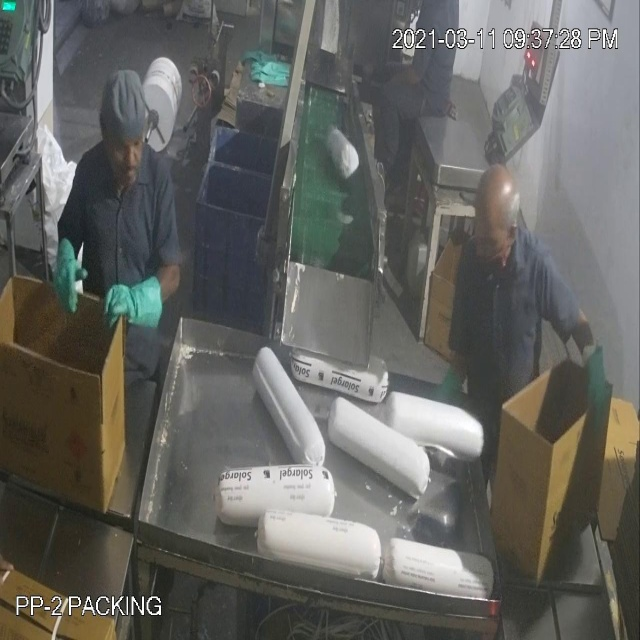Guantes: (579, 342, 618, 442)
